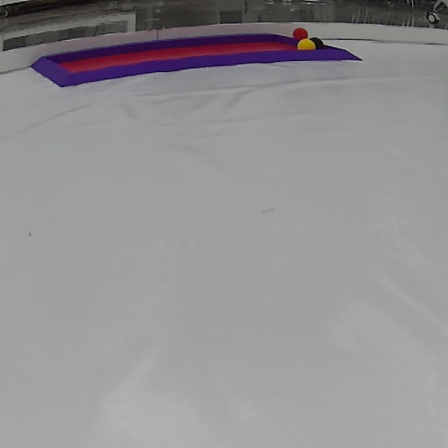black: (313, 35, 325, 46)
red: (293, 27, 306, 39)
red_aim: (34, 35, 367, 86)
yellow: (297, 40, 315, 47)
